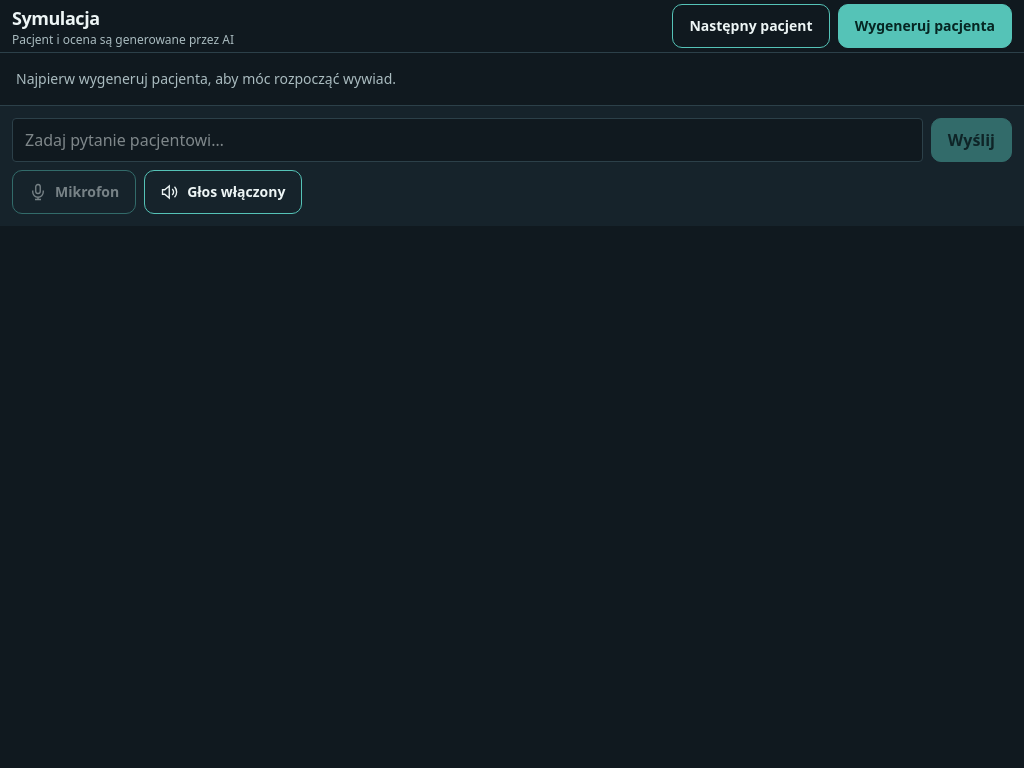
Test case: SimulationClient — Wygeneruj pacjenta › adds microphone transcription to the draft without sending a turn
This screenshot has width=1024, height=768.
Step 1. Click the button "Następny pacjent" → [751, 26], box [672,4,830,48]
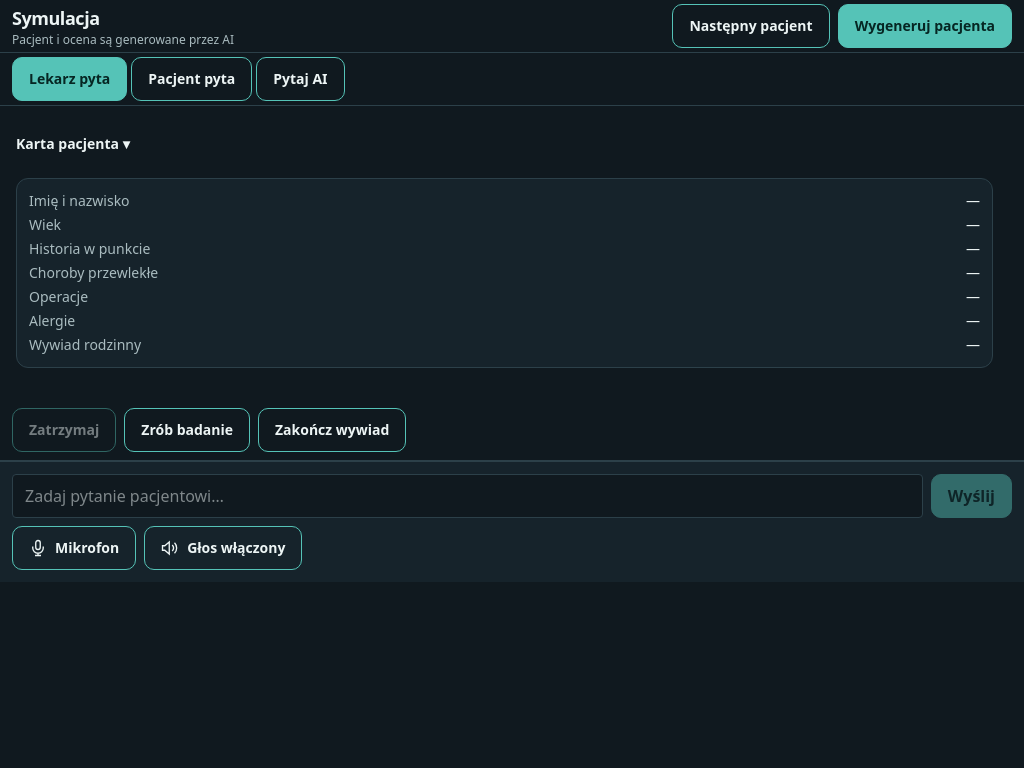
Step 2. Click the button "Mikrofon" → [74, 548], box [12,526,136,570]
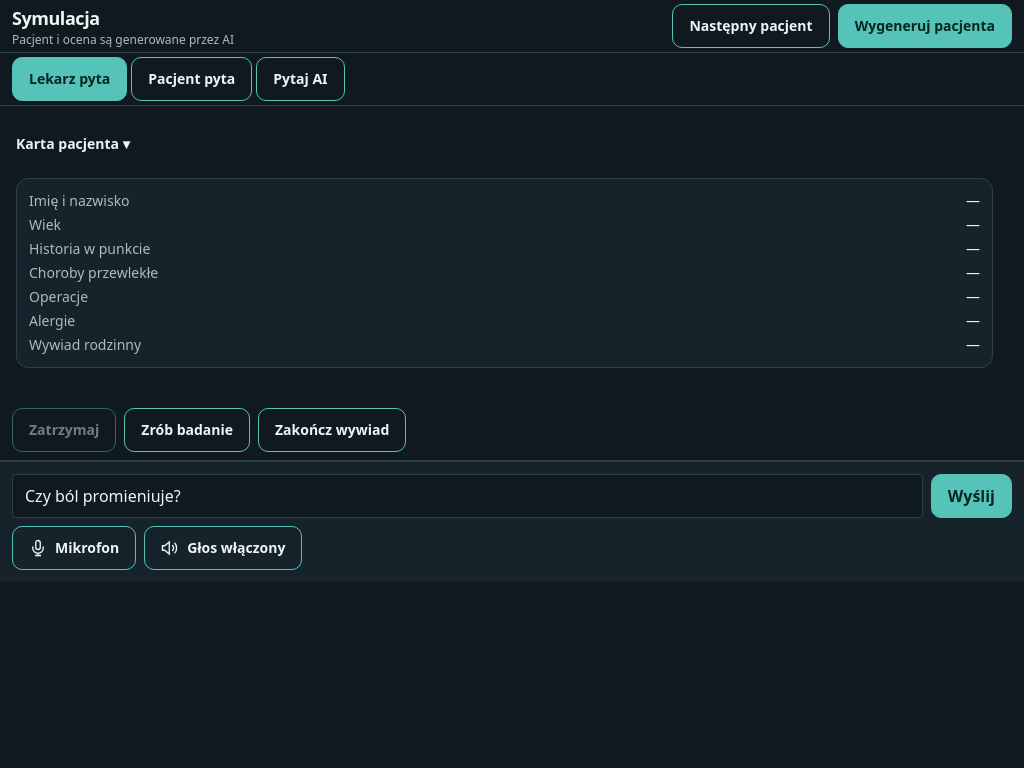
Result: the field named "Wiadomość" holds "Czy ból promieniuje?" at [12,474,923,518]
